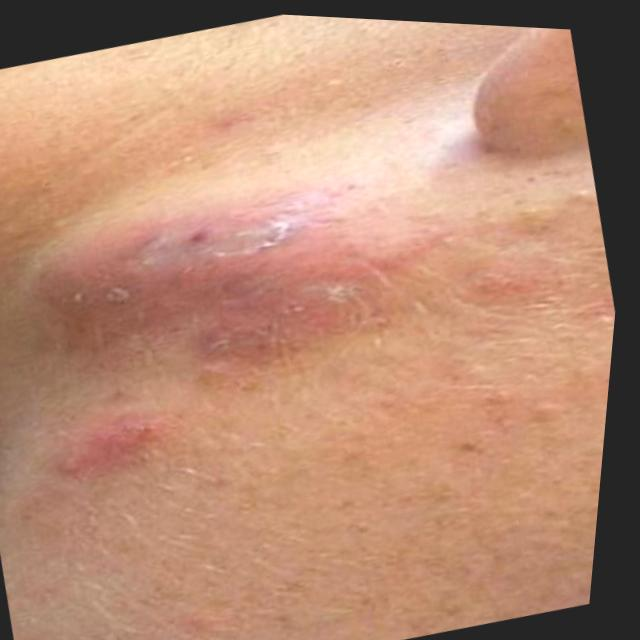nodule: (30, 188, 400, 359)
